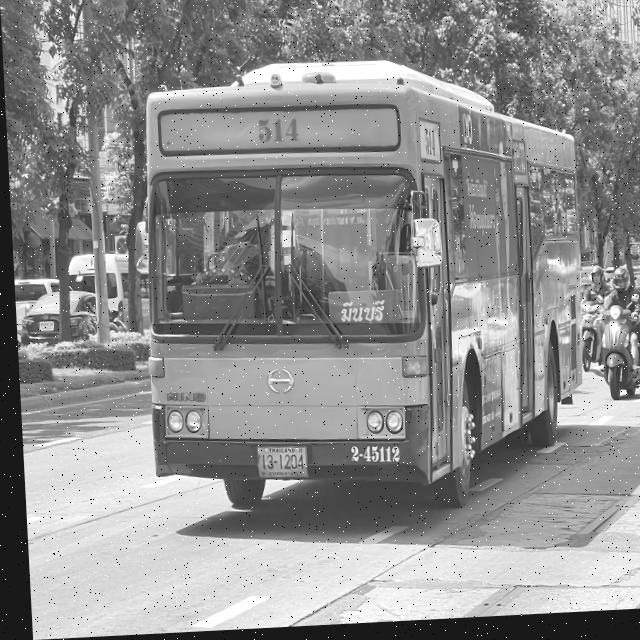BMTA-bus: (126, 57, 590, 525)
Bus-Line-Number: (247, 113, 307, 154)
Destination-Sign-Normal: (323, 294, 398, 334)
